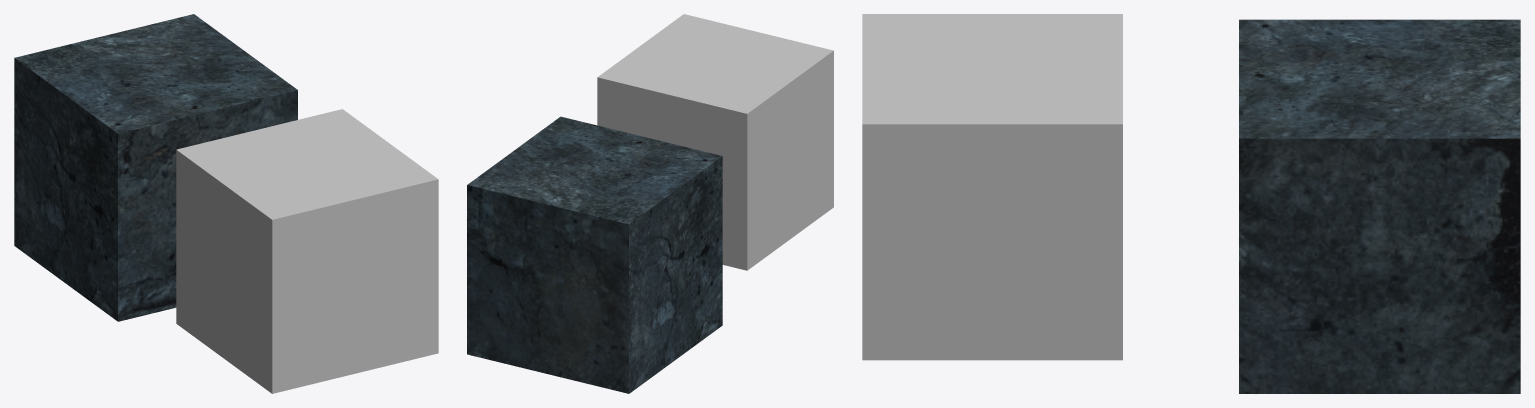
The model's file is newnodes.gltf.
3 views of the same model, side by side, from view 1: azimuth 30°, elevation 25°; view 2: azimuth 150°, elevation 25°; view 3: azimuth 270°, elevation 25° (orthographic). The views are drawn at different scales.
Visible parts, largest first — view 1: Cube.001, Cube; view 2: Cube, Cube.001; view 3: Cube, Cube.001.
Part boxes in pixels (bbox=[...]): Cube.001: bbox=[176, 109, 438, 393]; Cube: bbox=[14, 14, 297, 321]; Cube: bbox=[467, 116, 722, 393]; Cube.001: bbox=[597, 14, 833, 270]; Cube: bbox=[1239, 19, 1520, 393]; Cube.001: bbox=[862, 14, 1122, 360].
Bounding box in the file's own units: 1.31 × 1.38 × 3.04.
